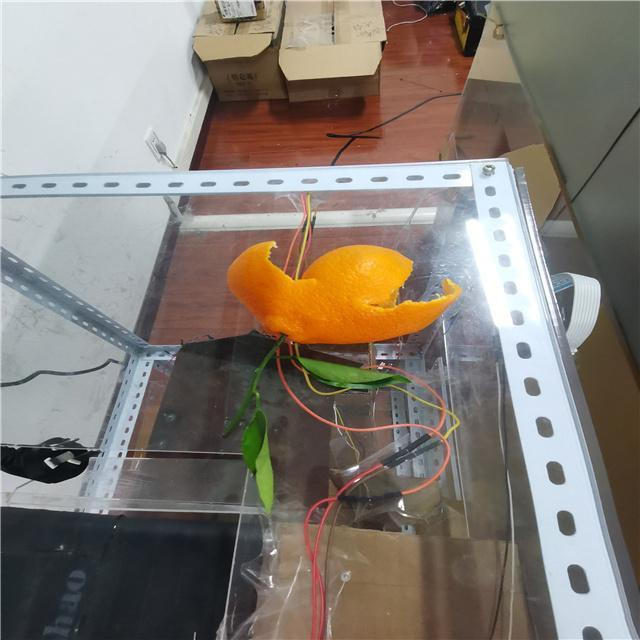orange peel: (224, 238, 466, 347)
